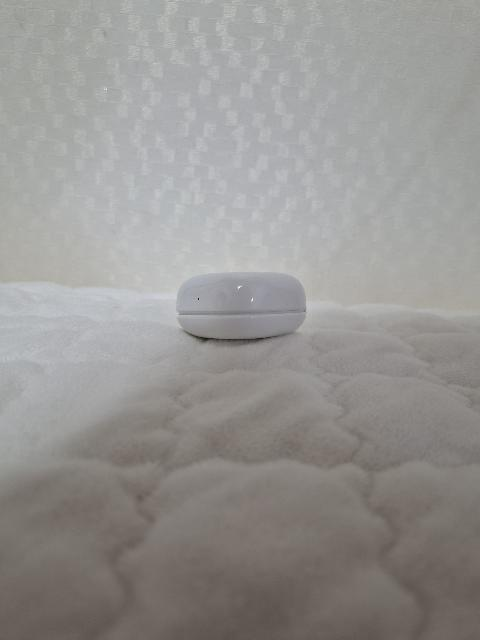earphone_case: (176, 272, 307, 340)
